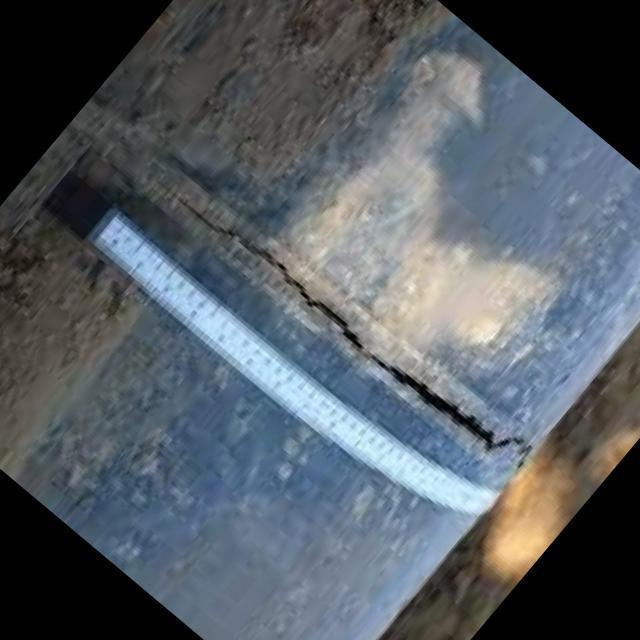defect: (145, 171, 537, 480)
